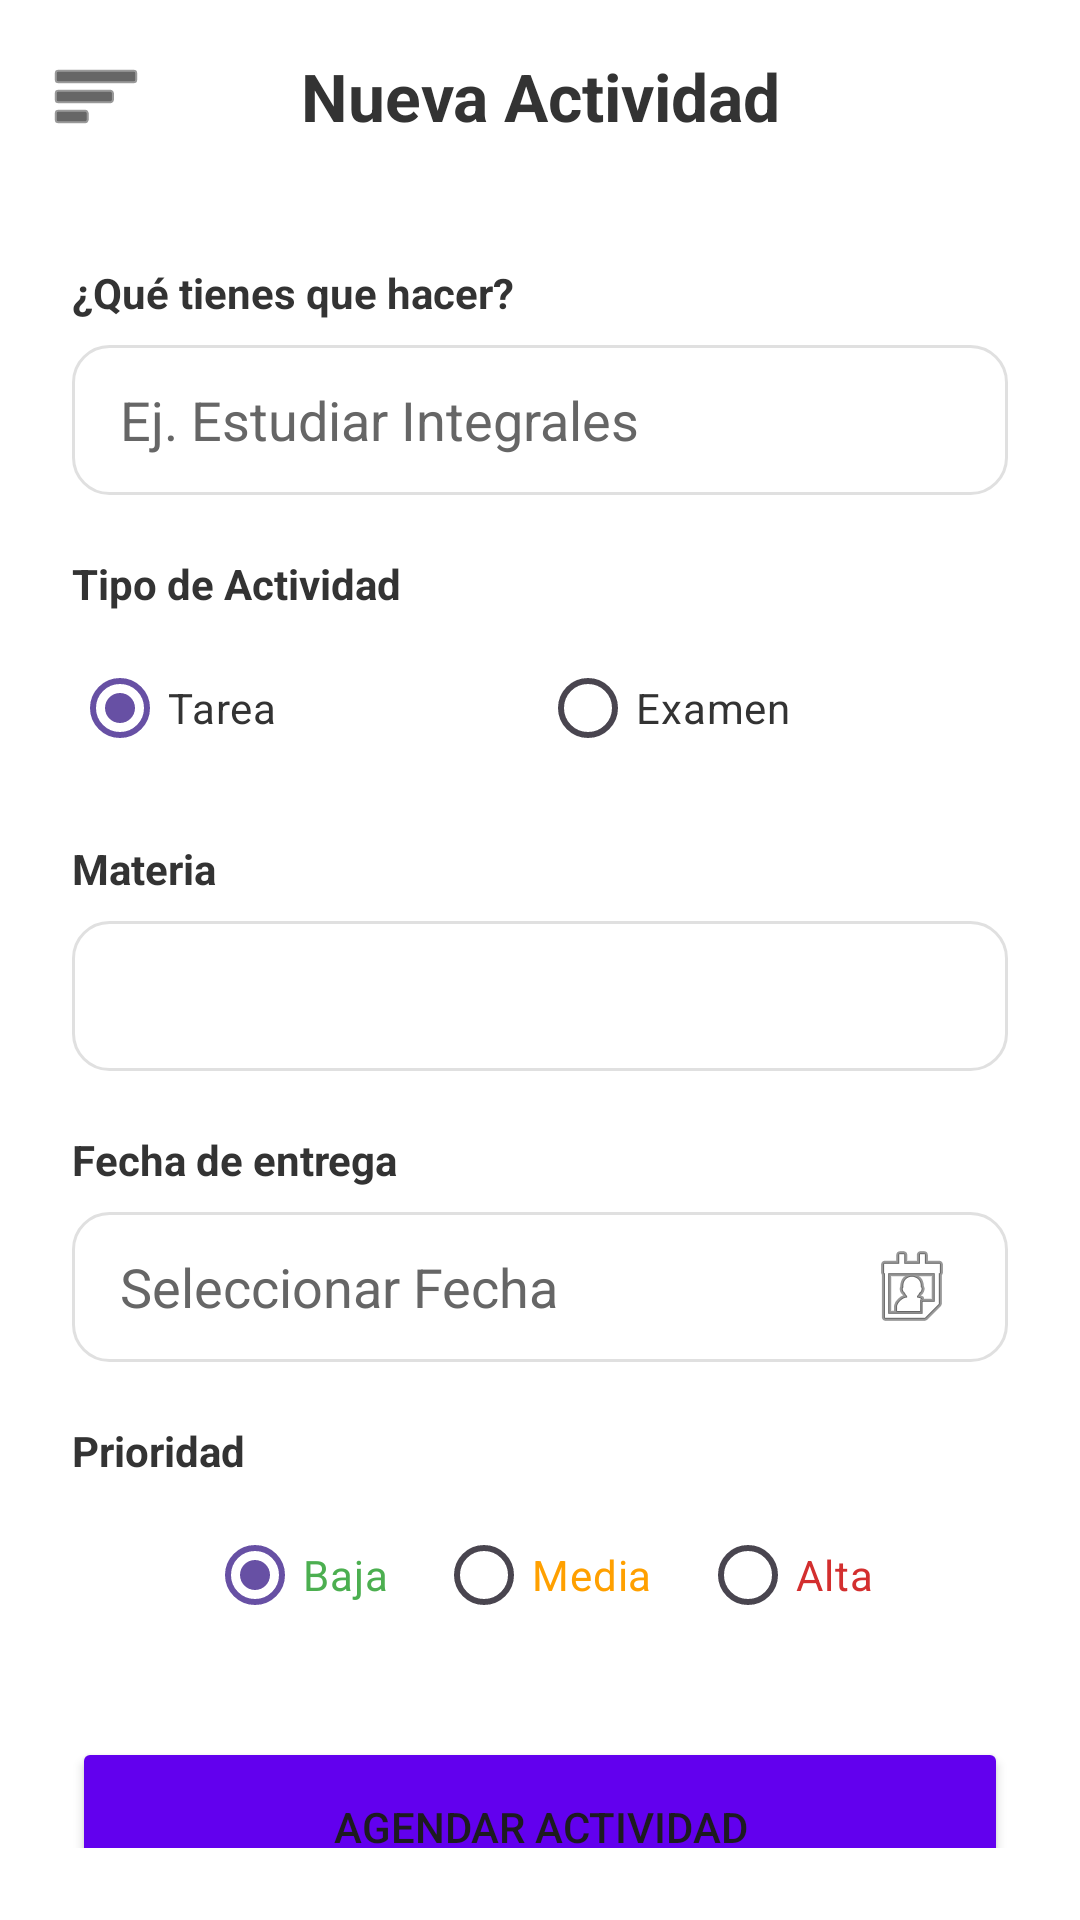

Locate icon controls on the screen. Image size 1080×1920, boxes as (x1, y1, x2, y2).
sort by size: (55, 70, 137, 123)
